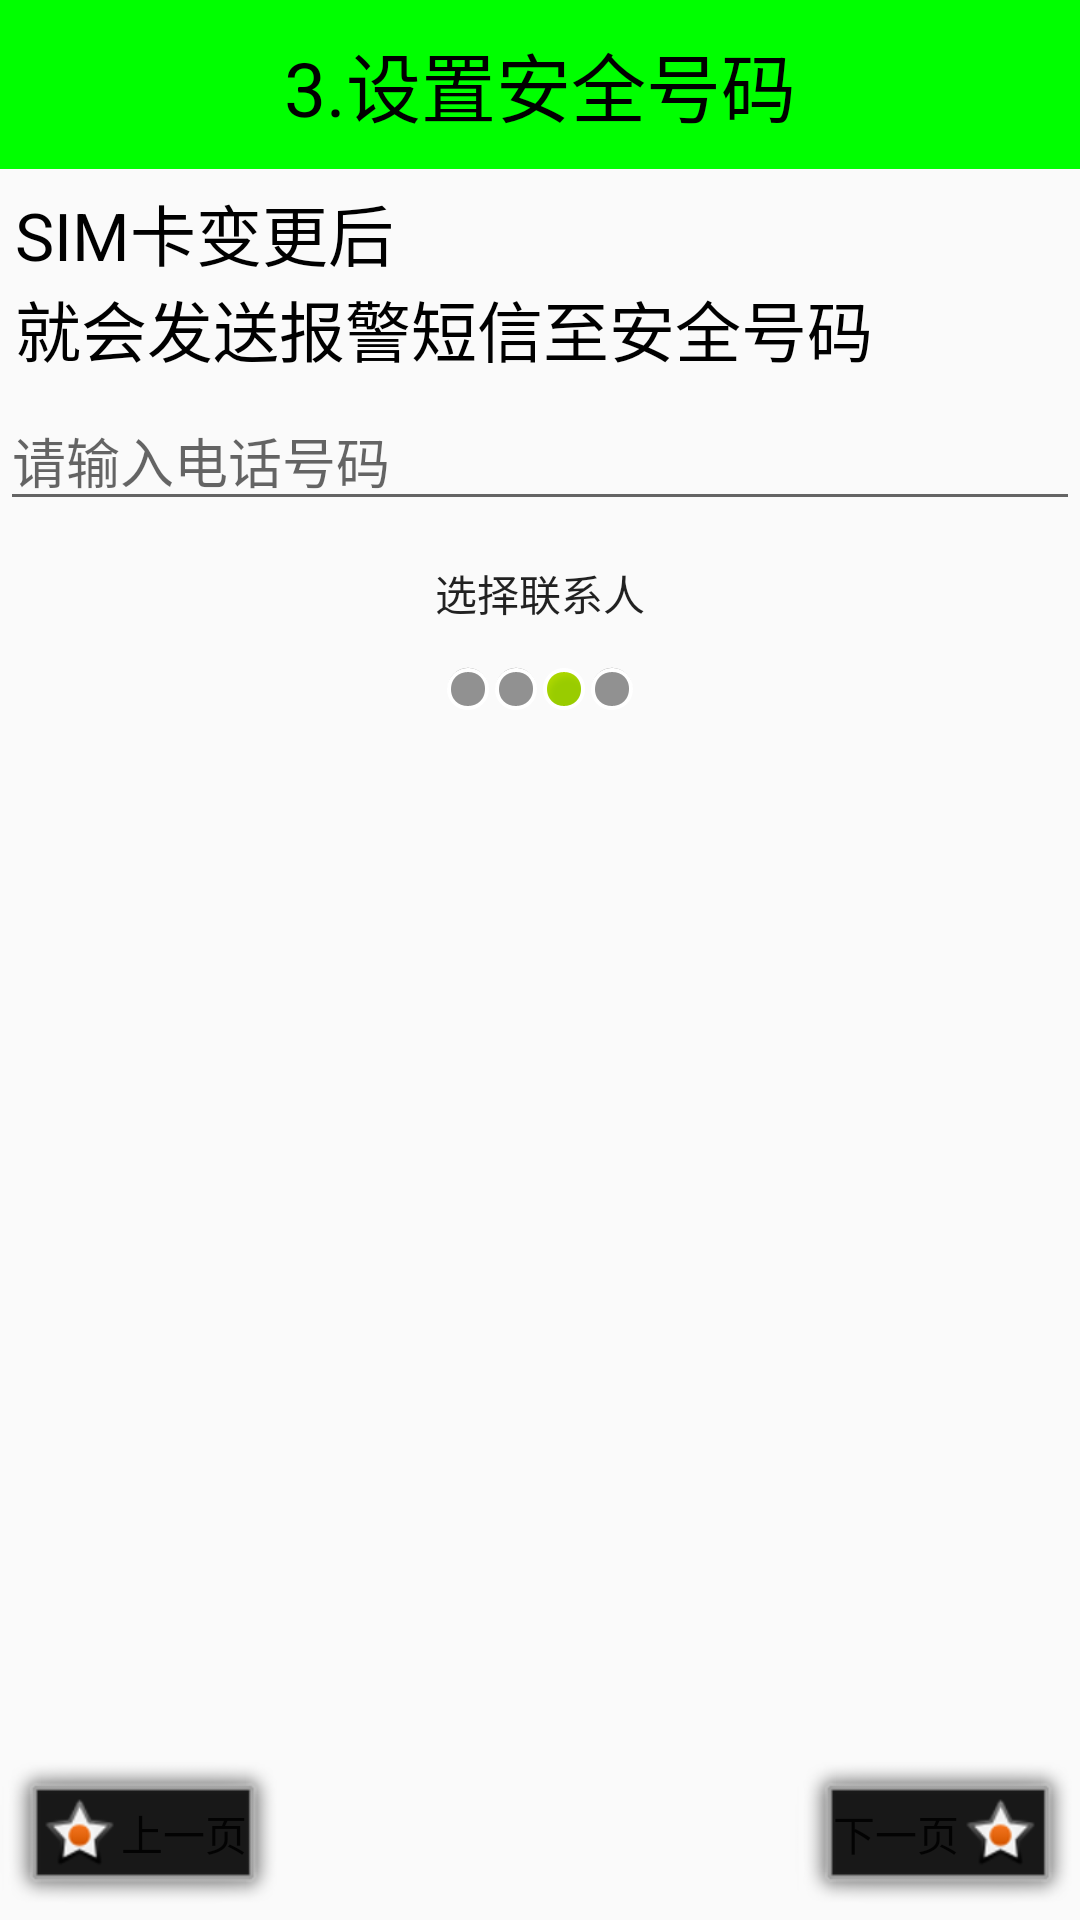

Where to tap for icons on this 1080px x 1920px app screen, as point (x, y):
presence invisible: point (468, 687), point (516, 687), point (612, 687)
presence online: point (564, 689)
